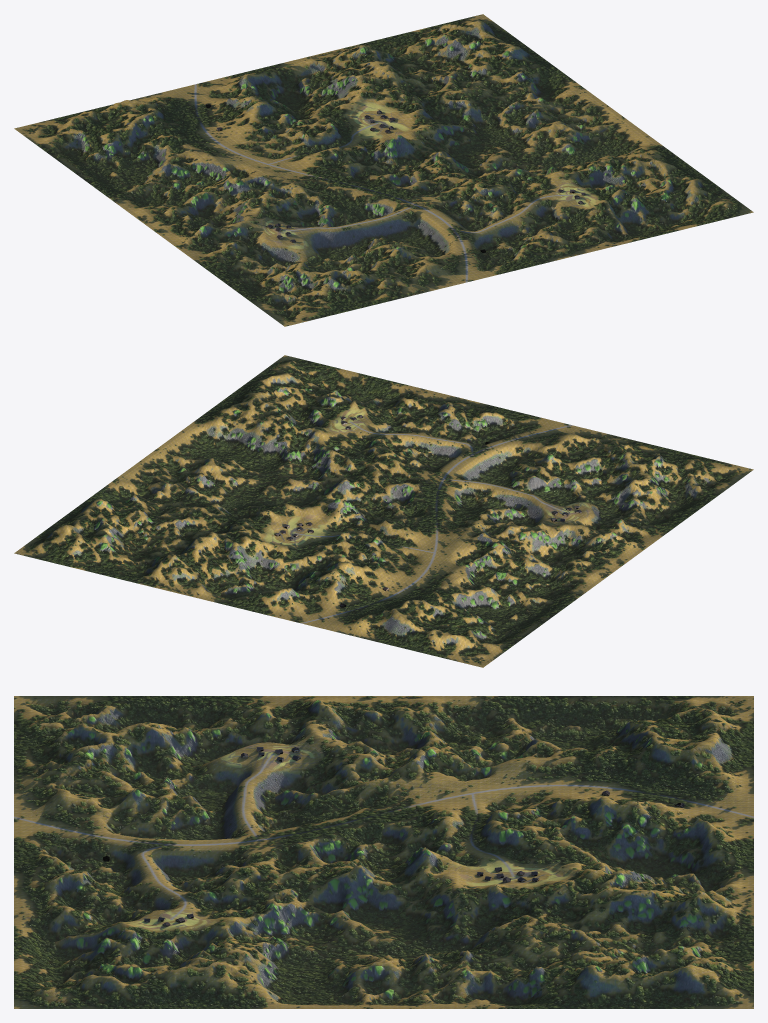
The model's file is raven-terrain.glb.
3 renders of one model, top to bottom at view 1: azimuth 30°, elevation 25°; view 2: azimuth 150°, elevation 25°; view 3: azimuth 270°, elevation 25°, orthographic. The views are drawn at different scales.
Parts seen in each view (by area): view 1: Land-A, Houses; view 2: Land-A; view 3: Land-A, Houses.
Boxes of the visible parts, left/top/right/bottom form: Land-A: left=14, top=14, right=753, bottom=326; Houses: left=206, top=104, right=585, bottom=252; Land-A: left=14, top=355, right=753, bottom=667; Land-A: left=14, top=696, right=753, bottom=1008; Houses: left=103, top=747, right=684, bottom=926.
Bounding box in the file's own units: 400 × 24.56 × 400.
2 materials, 2 textured.
